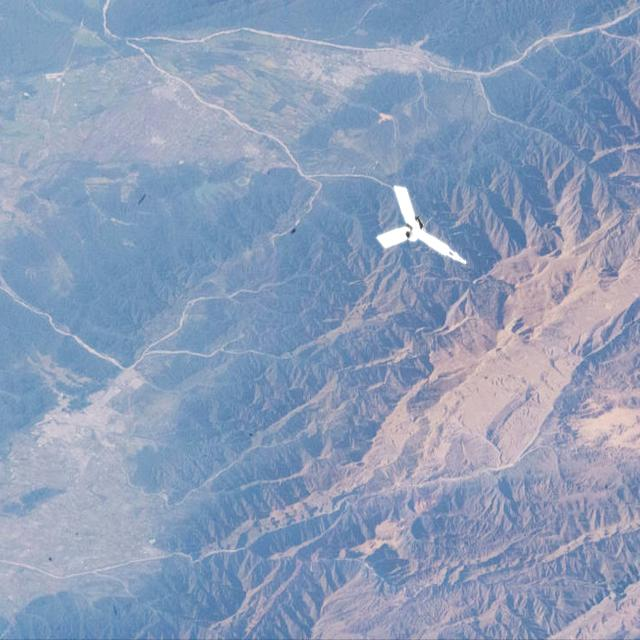satellite: (374, 185, 478, 276)
